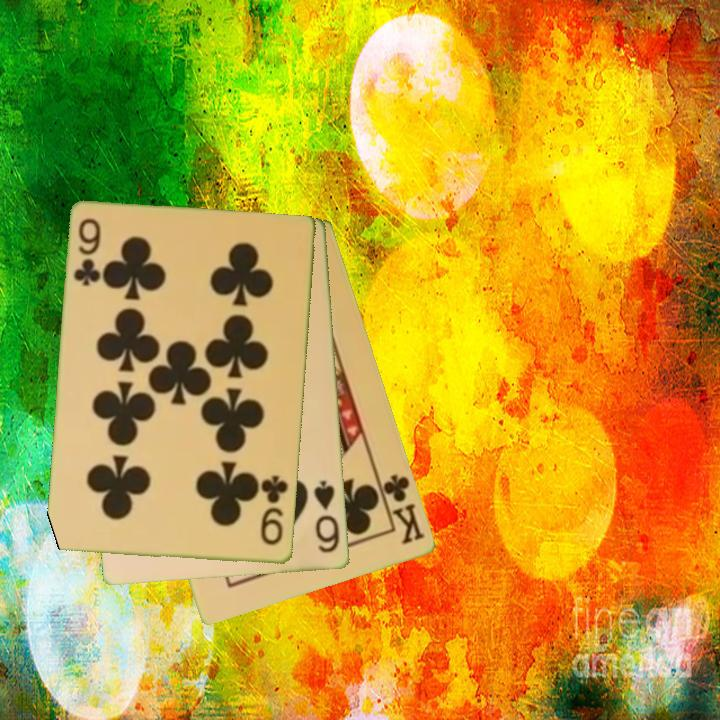6s: (310, 477, 343, 556)
9c: (257, 472, 292, 549), (71, 215, 104, 289)
Kc: (374, 471, 428, 547)
